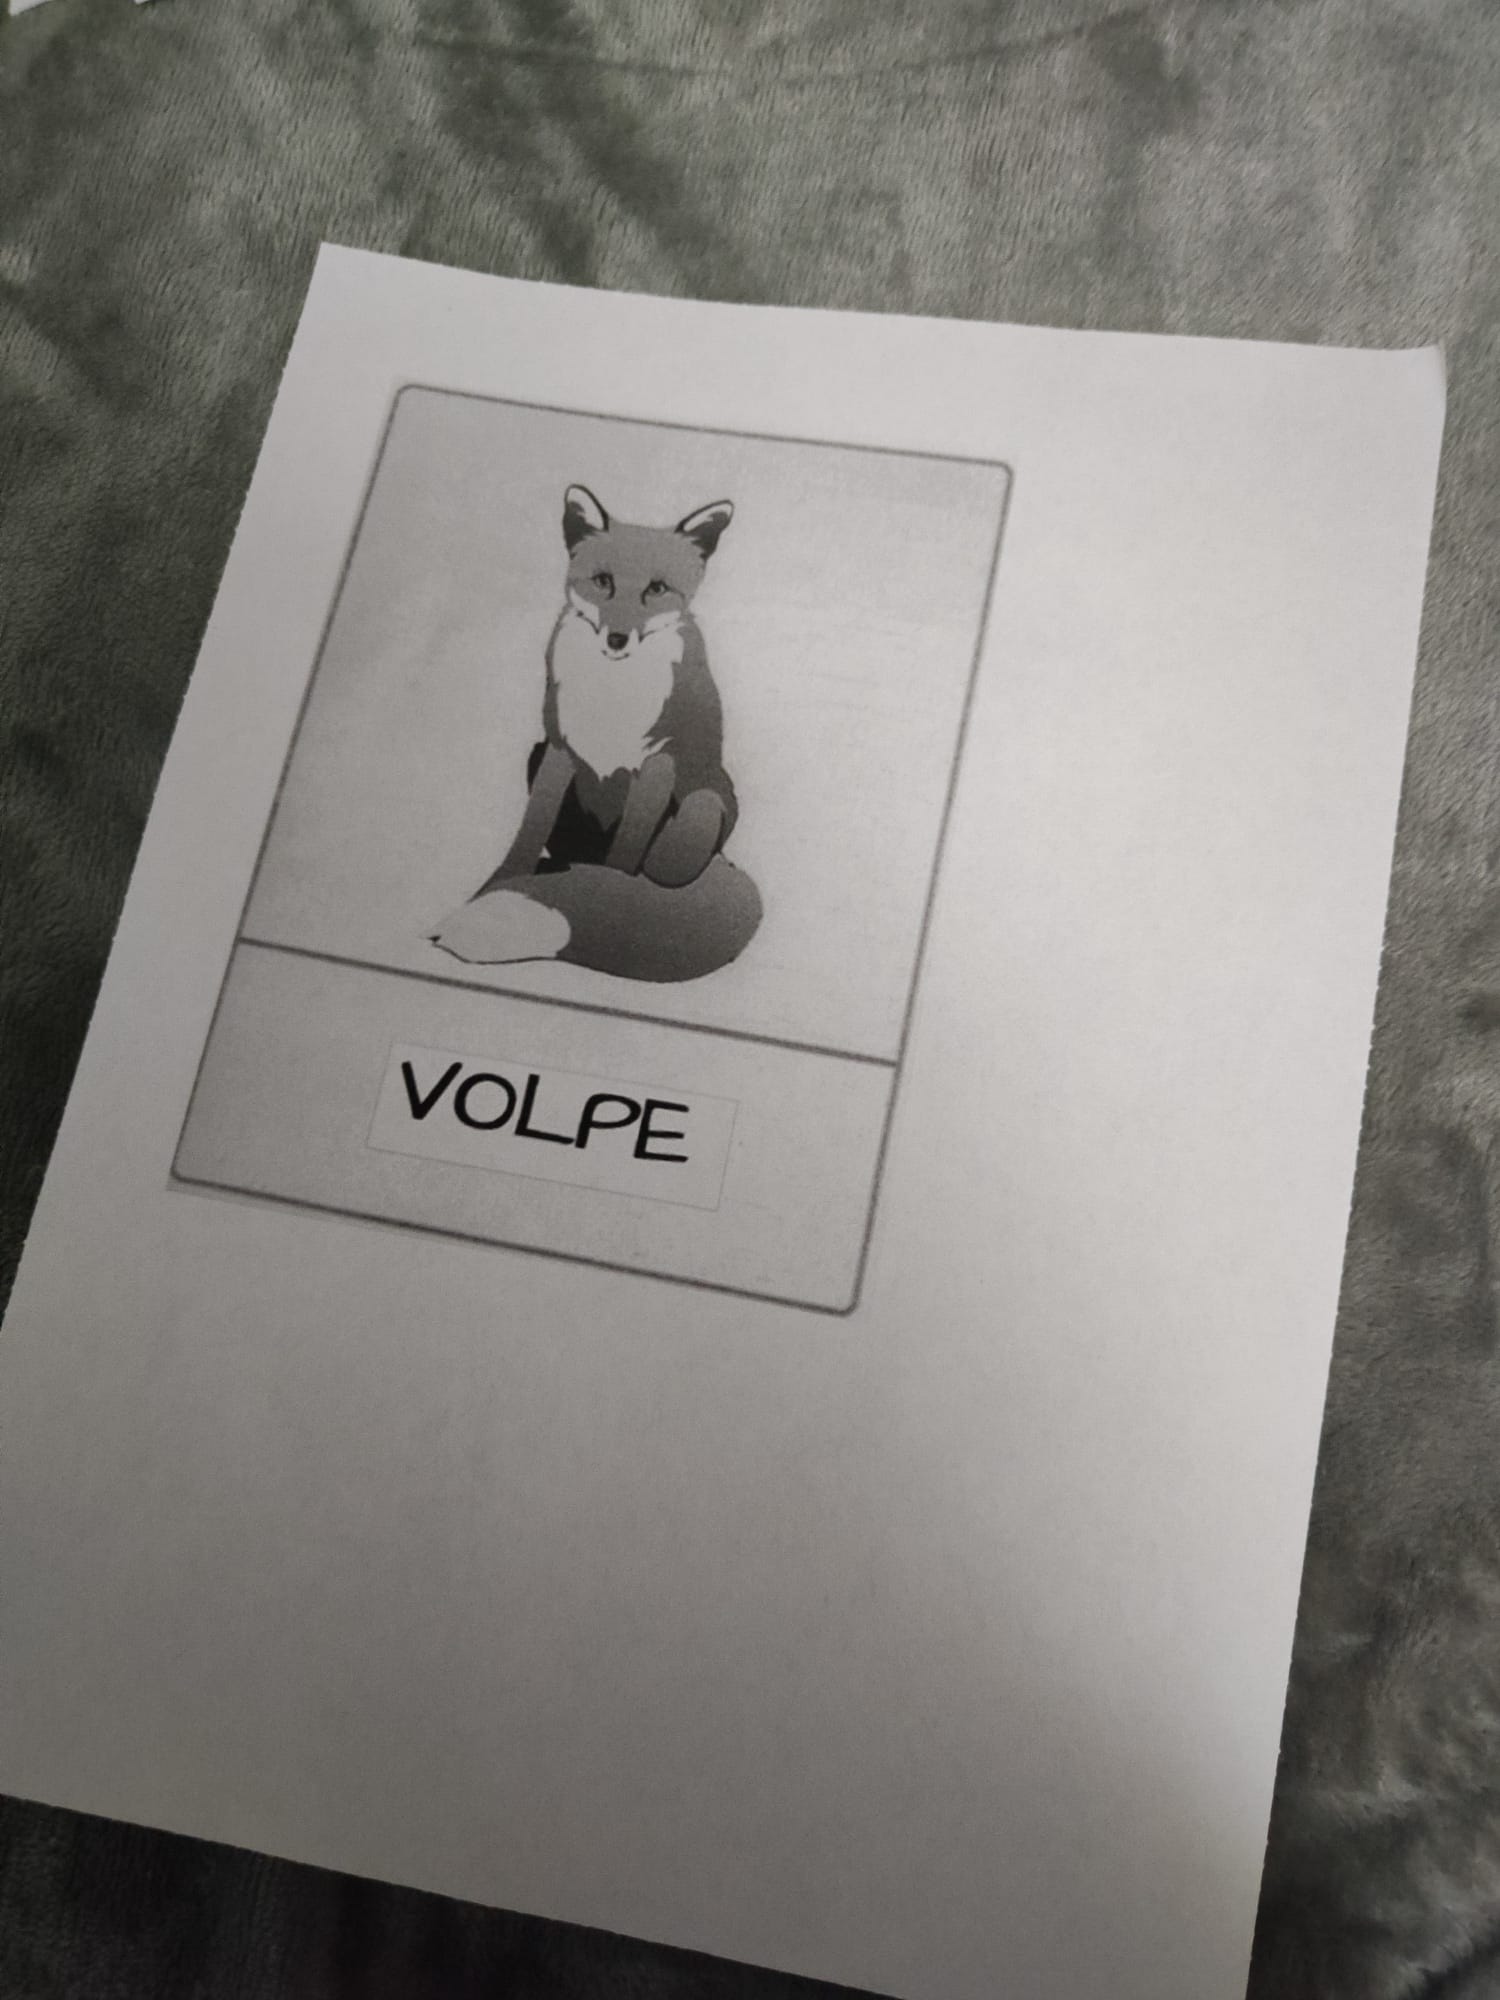volpe: (327, 408, 952, 1224)
